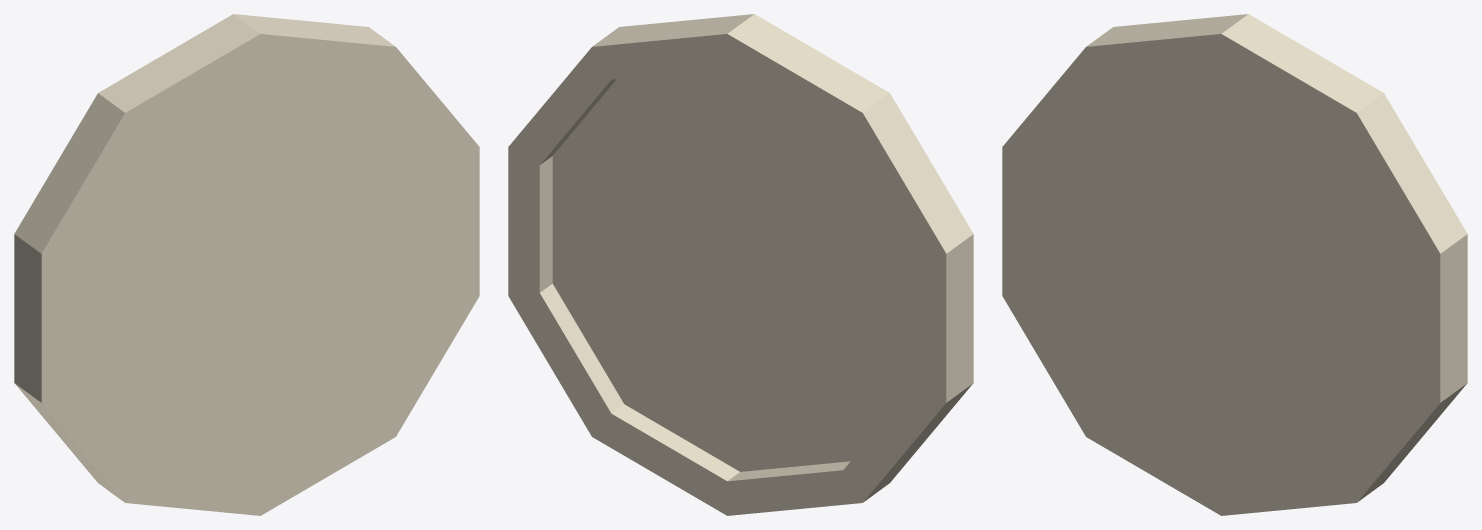
The model's file is clock_prototype.fbx.
3 views of the same model, side by side, from view 1: azimuth 30°, elevation 25°; view 2: azimuth 150°, elevation 25°; view 3: azimuth 330°, elevation 25° (orthographic).
Visible parts, largest first — view 1: clock1; view 2: clock1; view 3: clock1.
Part boxes in pixels (x1=…): clock1: x1=14, y1=14, x2=479, y2=515; clock1: x1=508, y1=14, x2=973, y2=515; clock1: x1=1002, y1=14, x2=1467, y2=515.
Size of the model in its own units: 0.4543 by 0.4776 by 0.0489.
